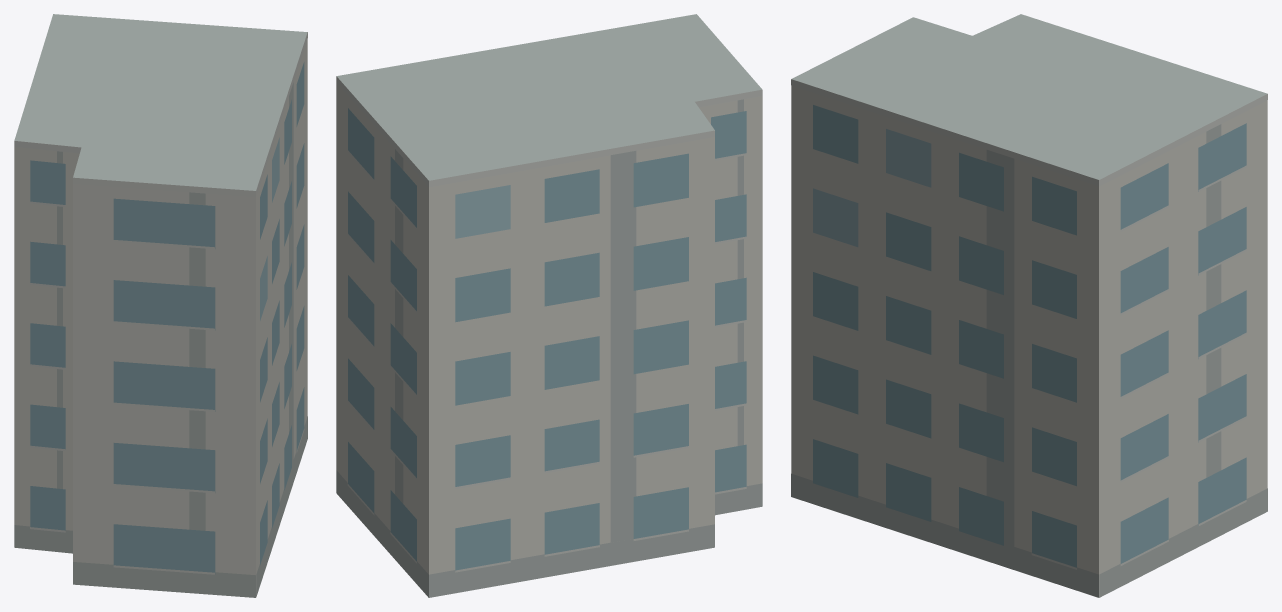
Rendered from survey-upis-32916194.glb.
The picture shows the model from 3 angles, left to right: view 1: azimuth 30°, elevation 25°; view 2: azimuth 150°, elevation 25°; view 3: azimuth 270°, elevation 25°; orthographic projection. The views are drawn at different scales.
Visible parts, largest first — view 1: survey-upis-32916194.tmp; view 2: survey-upis-32916194.tmp; view 3: survey-upis-32916194.tmp.
Boxes of the visible parts, x1=… form: survey-upis-32916194.tmp: x1=14, y1=14, x2=307, y2=597; survey-upis-32916194.tmp: x1=336, y1=14, x2=762, y2=597; survey-upis-32916194.tmp: x1=791, y1=14, x2=1267, y2=597.
Bounding box in the file's own units: 13.56 × 15.9 × 16.44.
